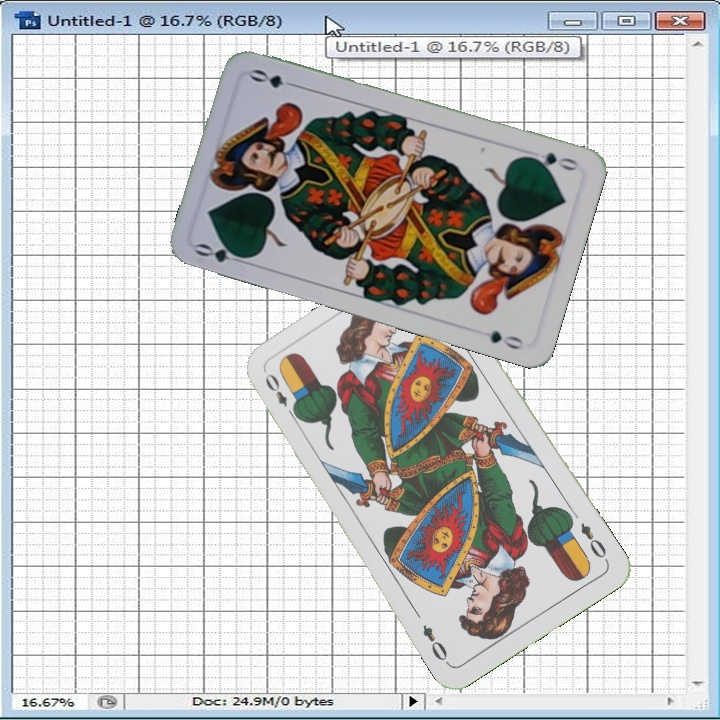EO: (260, 369, 300, 422), (576, 518, 611, 565)
GO: (191, 239, 251, 267), (522, 148, 580, 174)
